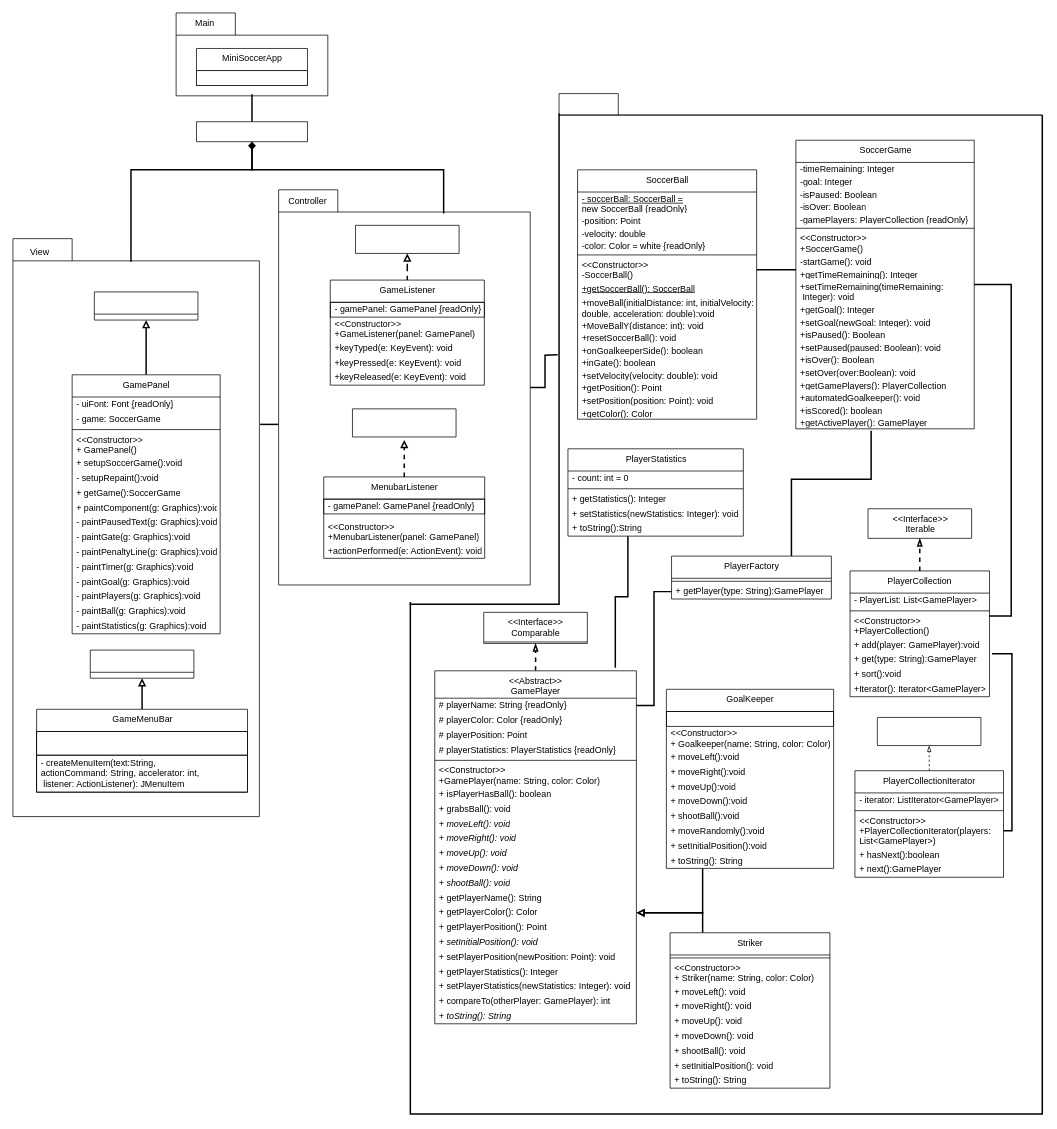
The diagram is 1057 pixels wide and 1129 high, and some of its shapes have lost their labels. Each missing label, with the centre of its shape:
+main(args :String[]): void: (x=251, y=77)
- movementStep: int: (x=750, y=718)
<<Constructor>> +GameMenuBar(menubarListener: ActionListener): (x=142, y=743)
<<Interface>> ActionListener: (x=404, y=422)
<<Interface>> Iterator: (x=929, y=731)
<<Interface>> KeyListener: (x=407, y=239)
JFrame: (x=251, y=131)
JMenuBar: (x=142, y=663)
JPanel: (x=146, y=305)
Model: (x=800, y=104)
